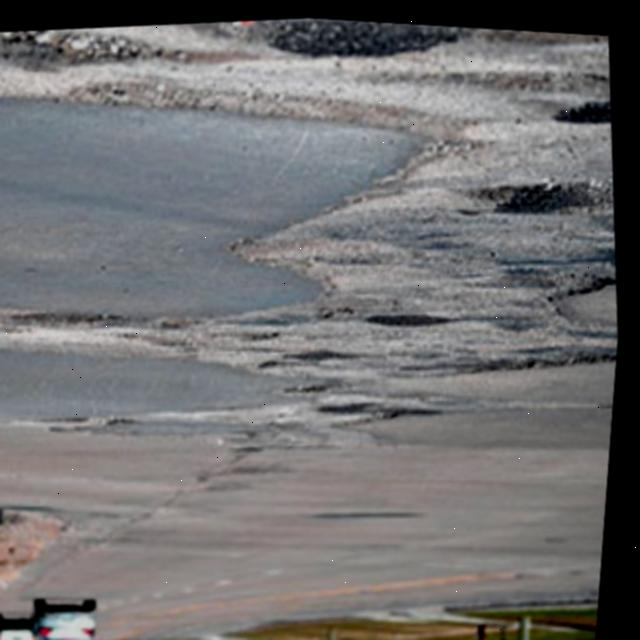Pothole: (0, 94, 635, 513), (0, 0, 620, 207)
